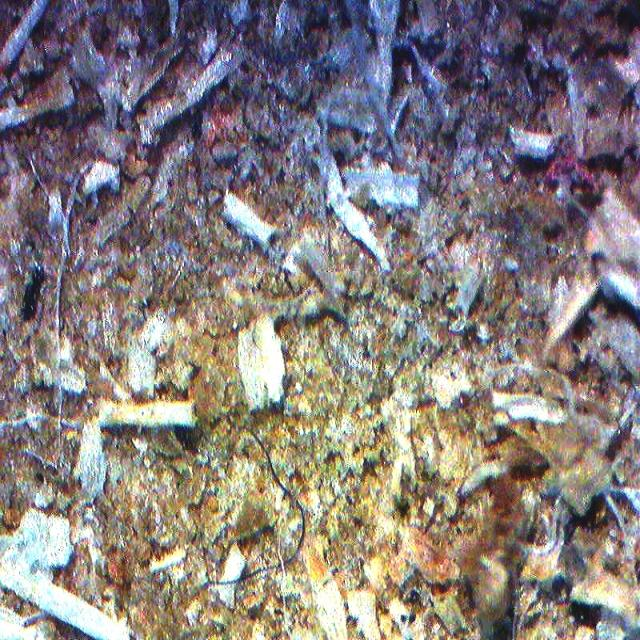microplastic: (197, 431, 331, 612)
